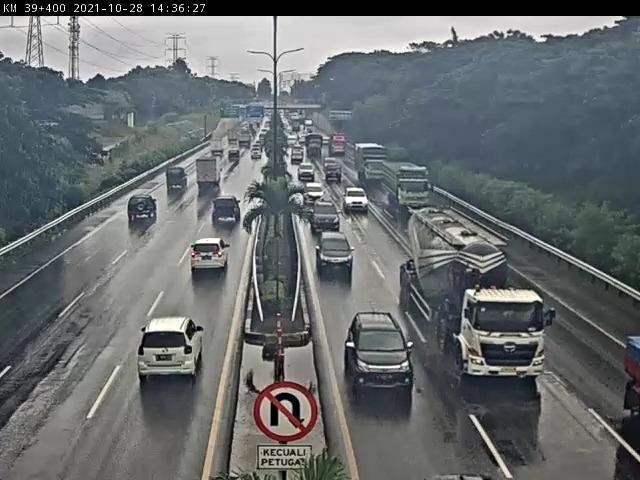car: (348, 315, 415, 392), (139, 319, 205, 385), (318, 232, 356, 275), (189, 239, 231, 277), (312, 203, 343, 236), (211, 195, 244, 225), (126, 195, 158, 225), (344, 186, 371, 213), (165, 168, 189, 195), (304, 181, 327, 206), (299, 163, 317, 181), (325, 164, 342, 183)
truck: (401, 208, 547, 382), (386, 166, 434, 213), (196, 158, 224, 189)
